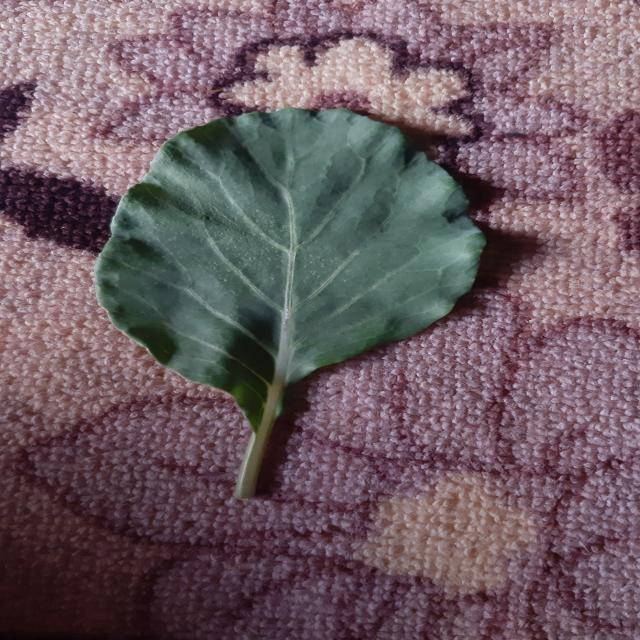Kohlrabi: (96, 109, 484, 499)
